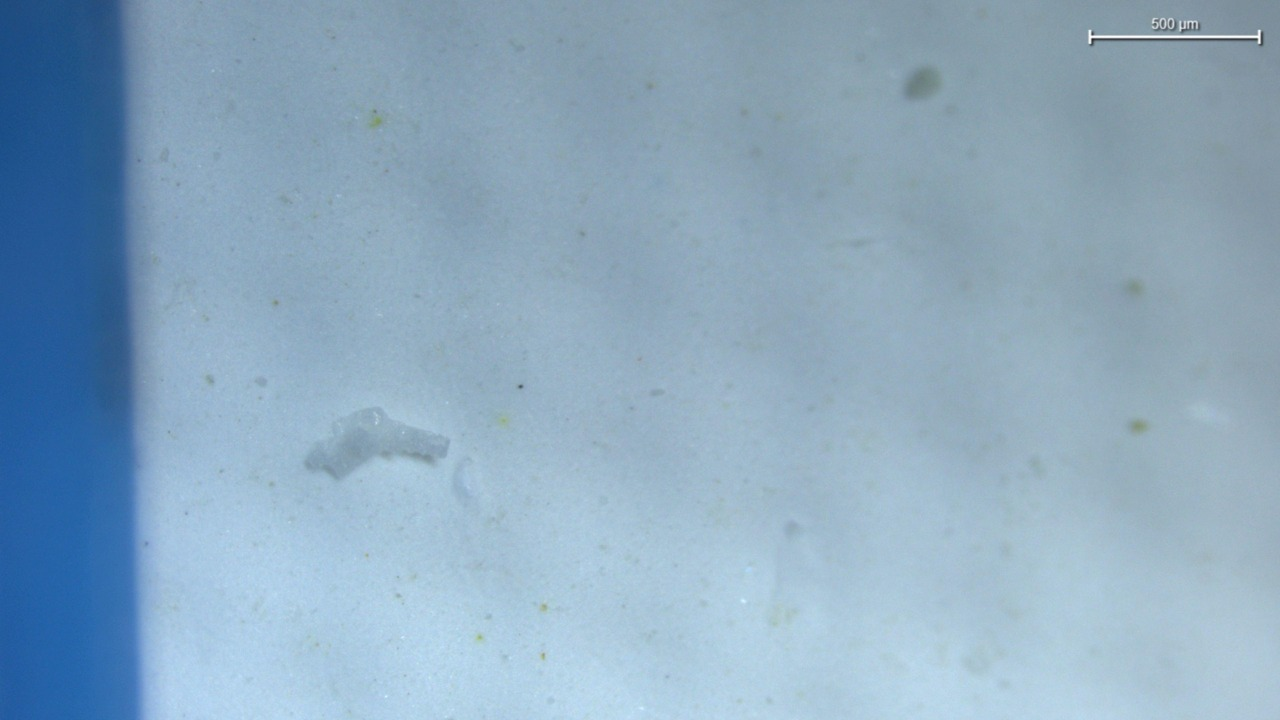microplastic_fragment: (305, 408, 449, 479)
